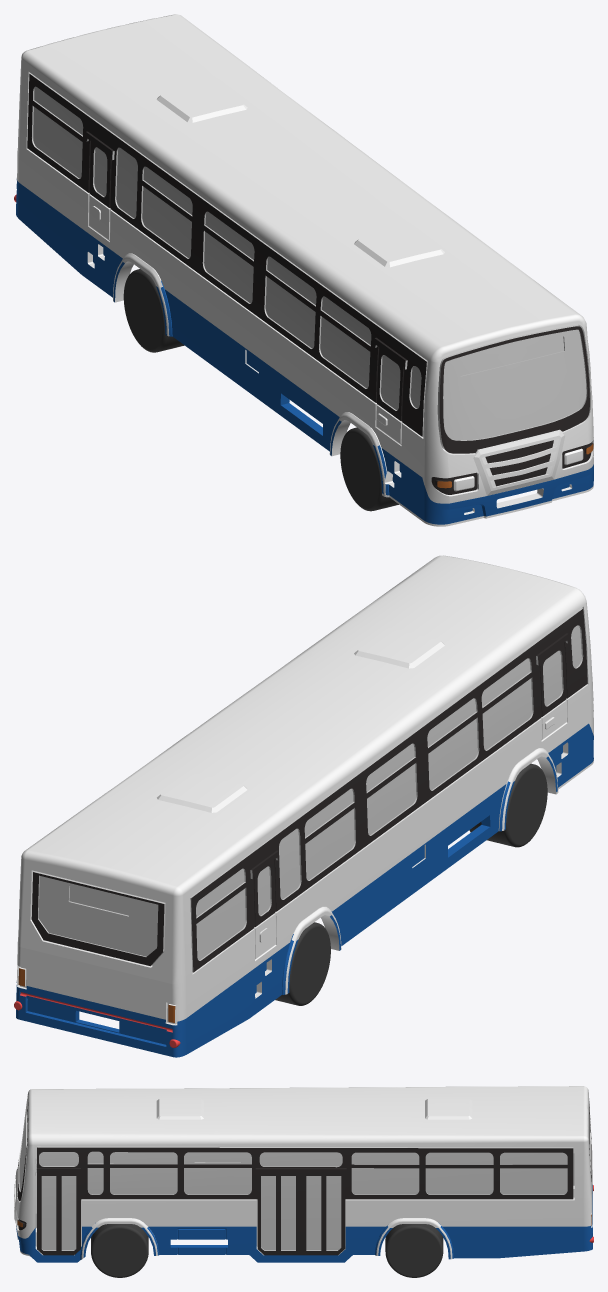
The model's file is bus.glb.
3 views of the same model, one above another, from view 1: azimuth 30°, elevation 25°; view 2: azimuth 150°, elevation 25°; view 3: azimuth 270°, elevation 25° (orthographic). The views are drawn at different scales.
Visible parts, largest first — view 1: MAIN BODY-V2, SIDE R-V2, FRONT-V2, TYRE REF003, TYRE REF002; view 2: MAIN BODY-V2, SIDE R-V2, BACK-V2, TYRE REF002, TYRE REF003; view 3: MAIN BODY-V2, SIDE L-V2, TYRE REF001, TYRE REF, FRONT-V2.
Part boxes in pixels (x1,y1,x2,y2): MAIN BODY-V2: (14, 14, 593, 526); SIDE R-V2: (27, 73, 427, 436); FRONT-V2: (437, 325, 589, 453); TYRE REF003: (123, 269, 184, 352); TYRE REF002: (340, 427, 398, 511); MAIN BODY-V2: (14, 555, 593, 1057); SIDE R-V2: (190, 608, 587, 972); BACK-V2: (31, 871, 165, 966); TYRE REF002: (469, 763, 547, 847); TYRE REF003: (275, 922, 330, 1005); MAIN BODY-V2: (14, 1086, 593, 1262); SIDE L-V2: (35, 1146, 574, 1255); TYRE REF001: (385, 1224, 443, 1277); TYRE REF: (91, 1224, 148, 1277); FRONT-V2: (17, 1096, 36, 1201).
Bounding box in the file's own units: 0.026 × 0.0302 × 0.1103.
